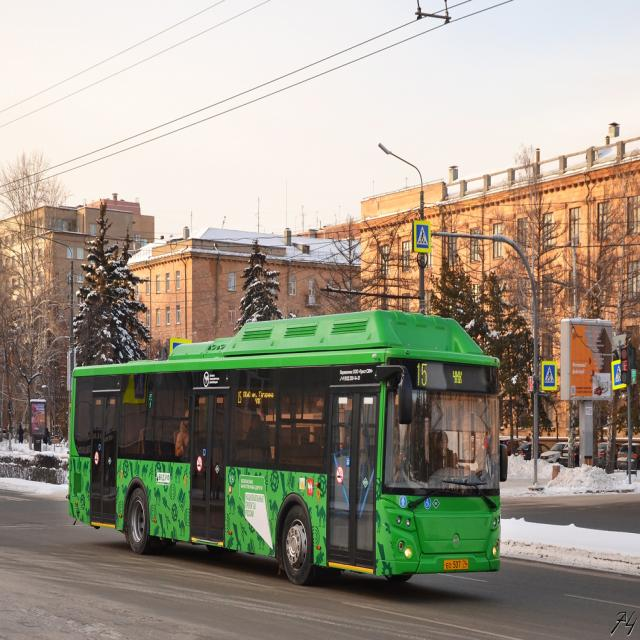number-of-bus: (416, 363, 431, 388), (239, 391, 244, 406)
